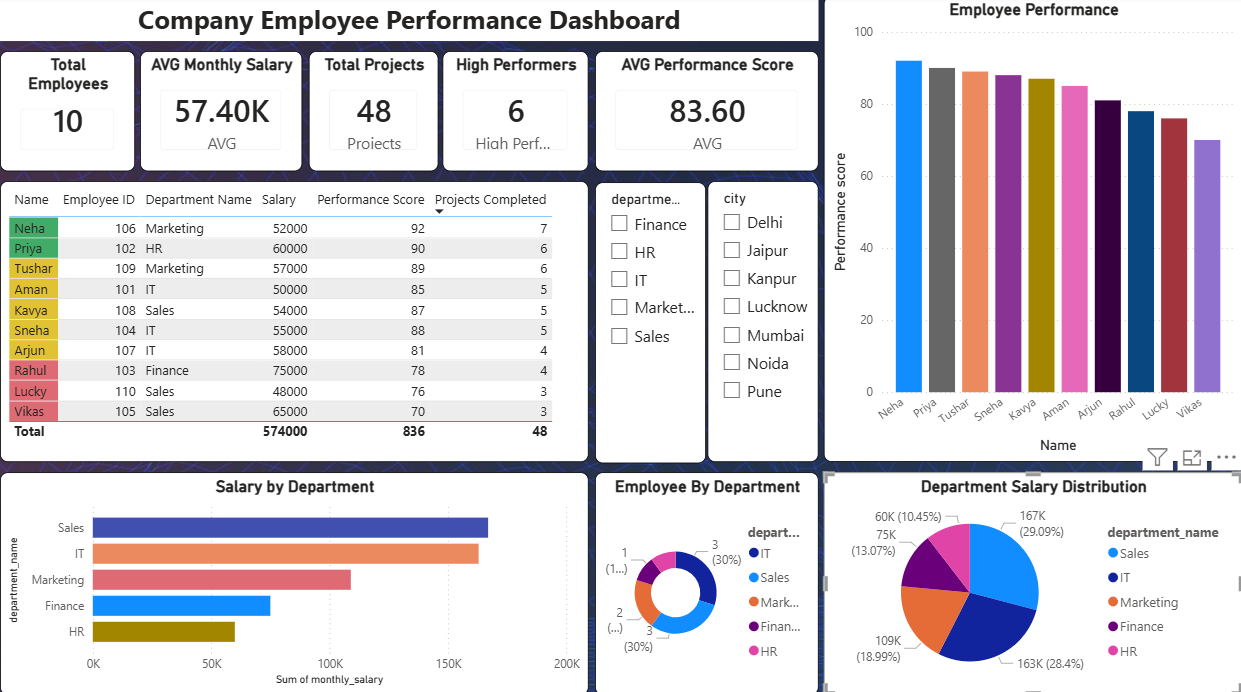

The dashboard page shown, as its layout file describes it:
{"tool":"powerbi","page":{"name":"Page 1","canvas":[1280,720],"ordinal":0},"visuals":[{"type":"cardVisual","title":"Total Employees","fields":{"Data":["CountNonNull(company_analysis employees.emp_id)"]},"box":[0,56.7,139.1,123.6],"z":0},{"type":"cardVisual","title":"AVG Monthly Salary","fields":{"Data":["Avg(company_analysis salary.monthly_salary)"]},"box":[144.2,56.7,167.4,123.6],"z":1000},{"type":"clusteredBarChart","title":"Salary by Department","fields":{"Category":["company_analysis departments.department_name"],"Y":["Sum(company_analysis salary.monthly_salary)"]},"box":[0,491,606,228.4],"z":2000},{"type":"clusteredColumnChart","title":"Employee Performance","fields":{"Category":["company_analysis employees.name"],"Y":["Sum(company_analysis performance.performance_score)"]},"box":[848.1,0,431.9,480.2],"z":3000},{"type":"pieChart","title":"Department Salary Distribution","fields":{"Category":["company_analysis departments.department_name"],"Y":["Sum(company_analysis salary.monthly_salary)"]},"box":[849.3,491,431.3,228.4],"z":4000},{"type":"slicer","fields":{"Values":["company_analysis employees.city"]},"box":[728.4,192.5,114.9,289.6],"z":5000},{"type":"tableEx","fields":{"Values":["company_analysis employees.name","company_analysis employees.emp_id","company_analysis departments.department_name","Sum(company_analysis salary.monthly_salary)","Sum(company_analysis performance.performance_score)","Sum(company_analysis performance.projects_completed)"]},"box":[0,191,606,289.6],"z":6000},{"type":"cardVisual","title":"AVG Performance Score","fields":{"Data":["Avg(company_analysis performance.performance_score)"]},"box":[613,56.7,230.5,123.6],"z":7000},{"type":"cardVisual","title":"Total Projects","fields":{"Data":["Sum(company_analysis performance.projects_completed)"]},"box":[318.1,56.7,133.9,123.6],"z":8000},{"type":"slicer","fields":{"Values":["company_analysis departments.department_name"]},"box":[610.4,192.5,113.4,289.6],"z":9000},{"type":"cardVisual","title":"High Performers","fields":{"Data":["Departments.High Performers"]},"box":[455.9,56.7,150.7,123.6],"z":10000},{"type":"donutChart","title":"Employee By Department","fields":{"Category":["Departments.department_name"],"Y":["CountNonNull(Employees.emp_id)"]},"box":[613,490.6,230.5,229.2],"z":11000},{"type":"textbox","box":[0,0,843.5,46.4],"z":11001}]}

Visuals, with their boxes in screenshot pixels (x1, y1, x2, y2), scaled from the page's 1280x720 canvas onto the 1241x692 screenshot:
"Total Employees" cardVisual: crop(0, 54, 135, 173)
"AVG Monthly Salary" cardVisual: crop(140, 54, 302, 173)
"Salary by Department" clusteredBarChart: crop(0, 472, 588, 691)
"Employee Performance" clusteredColumnChart: crop(822, 0, 1240, 462)
"Department Salary Distribution" pieChart: crop(823, 472, 1240, 691)
slicer - company_analysis employees.city: crop(706, 185, 818, 463)
tableEx - company_analysis employees.name x company_analysis employees.emp_id: crop(0, 184, 588, 462)
"AVG Performance Score" cardVisual: crop(594, 54, 818, 173)
"Total Projects" cardVisual: crop(308, 54, 438, 173)
slicer - company_analysis departments.department_name: crop(592, 185, 702, 463)
"High Performers" cardVisual: crop(442, 54, 588, 173)
"Employee By Department" donutChart: crop(594, 472, 818, 691)
textbox: crop(0, 0, 818, 45)
